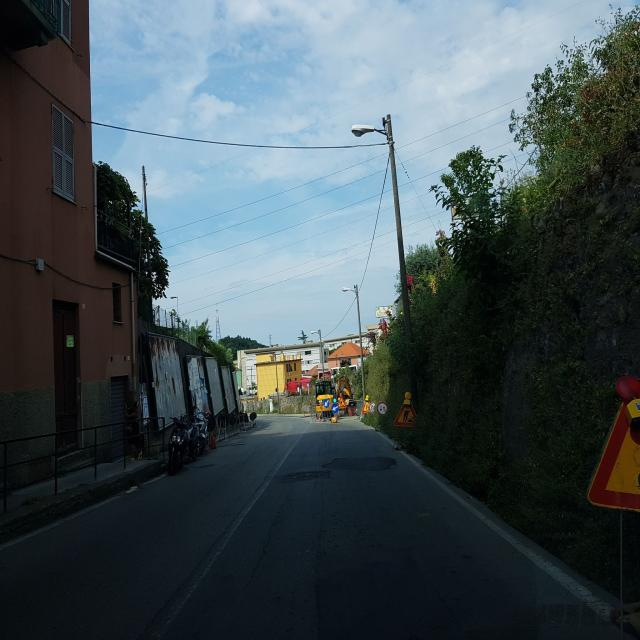bike: (169, 414, 206, 468)
